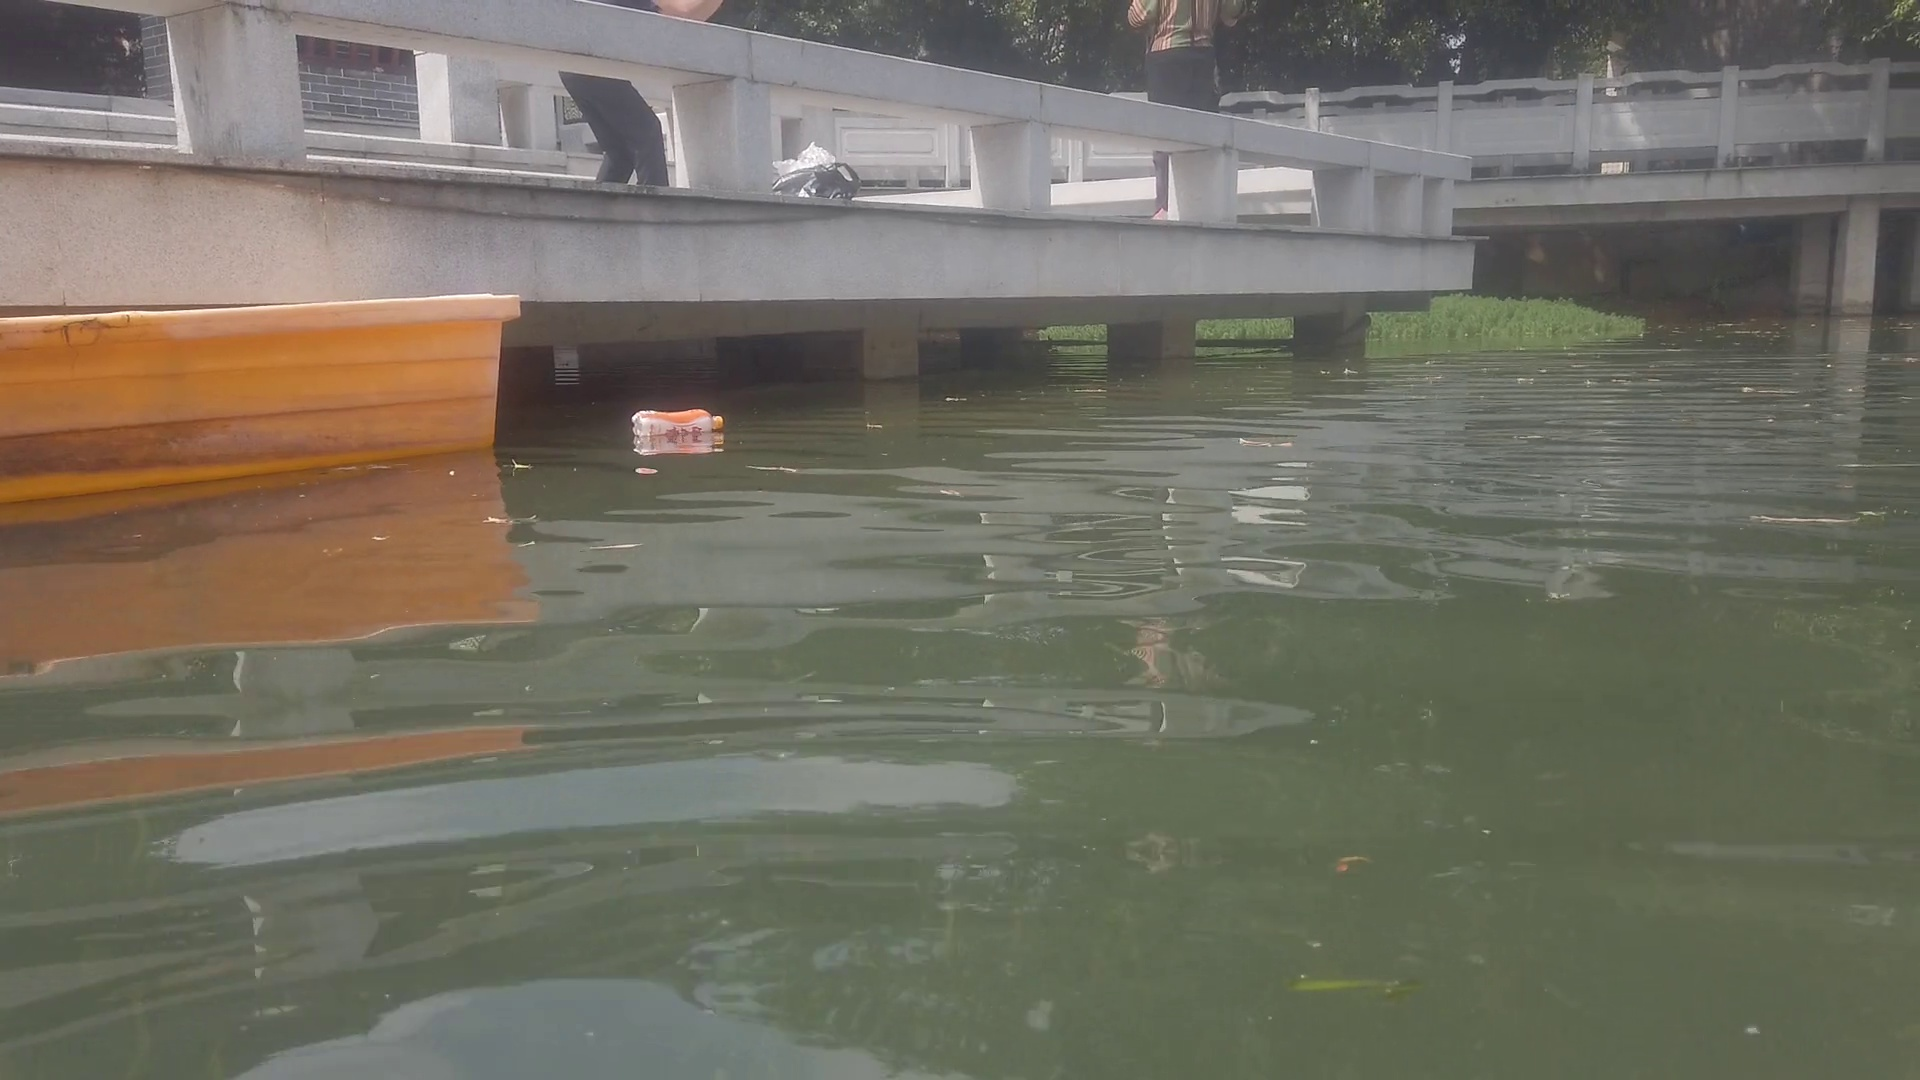bottle: (629, 405, 723, 433)
